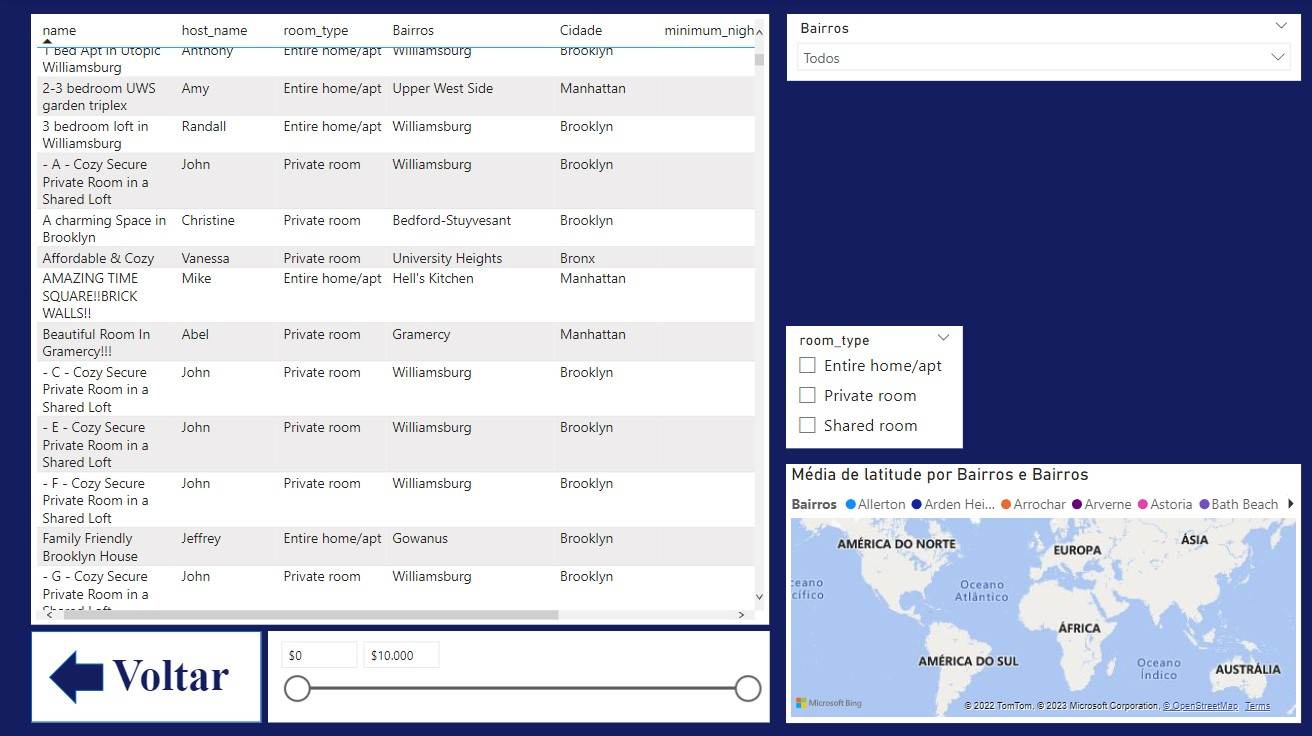

What the dashboard file says about the page in this screenshot:
{"tool":"powerbi","page":{"name":"Página 2","canvas":[1280,720],"ordinal":1},"visuals":[{"type":"actionButton","box":[287.1,449.4,219.4,88.7],"z":0},{"type":"shape","box":[38.7,616.1,211.3,87.1],"z":1000},{"type":"shape","box":[0,0,1280.6,719.4],"z":2000},{"type":"tableEx","fields":{"Values":["airbnb_nyc_2019.name","airbnb_nyc_2019.host_name","airbnb_nyc_2019.room_type","airbnb_nyc_2019.neighbourhood","airbnb_nyc_2019.neighbourhood_group","airbnb_nyc_2019.minimum_nights","airbnb_nyc_2019.number_of_reviews","airbnb_nyc_2019.price"]},"box":[31.4,15.7,717.6,594.1],"z":4000},{"type":"slicer","fields":{"Values":["airbnb_nyc_2019.Bairros"]},"box":[766.3,15.7,500,65.1],"z":6000},{"type":"slicer","fields":{"Values":["airbnb_nyc_2019.price"]},"box":[261.4,615.7,488,89.2],"z":7000},{"type":"filledMap","fields":{"Y":["airbnb_nyc_2019.latitude"],"Category":["airbnb_nyc_2019.Bairros"],"Series":["airbnb_nyc_2019.Bairros"]},"box":[765.1,453,501.2,251.8],"z":8000},{"type":"shape","box":[30.6,616.1,224.2,88.7],"z":8500},{"type":"slicer","fields":{"Values":["airbnb_nyc_2019.room_type"]},"box":[765.1,319.3,172.3,119.3],"z":9000},{"type":"shape","box":[48.4,633.9,53.2,53.2],"z":11000},{"type":"textbox","box":[90.3,629,138.7,85.5],"z":11500}]}

Visuals, with their boxes in screenshot pixels (x1, y1, x2, y2):
actionButton: left=299, top=459, right=520, bottom=548
shape: left=49, top=627, right=262, bottom=714
shape: left=10, top=7, right=1299, bottom=731
tableEx - airbnb_nyc_2019.name x airbnb_nyc_2019.host_name: left=42, top=23, right=764, bottom=620
slicer - airbnb_nyc_2019.Bairros: left=781, top=23, right=1284, bottom=88
slicer - airbnb_nyc_2019.price: left=273, top=626, right=764, bottom=716
filledMap - airbnb_nyc_2019.latitude x airbnb_nyc_2019.Bairros: left=780, top=463, right=1284, bottom=716
shape: left=41, top=627, right=267, bottom=716
slicer - airbnb_nyc_2019.room_type: left=780, top=328, right=953, bottom=448
shape: left=59, top=645, right=112, bottom=698
textbox: left=101, top=640, right=241, bottom=726
